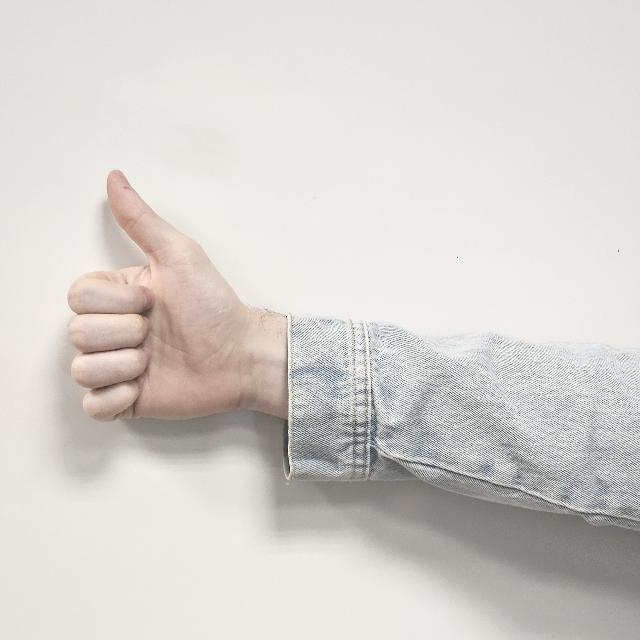Start: (65, 170, 251, 452)
